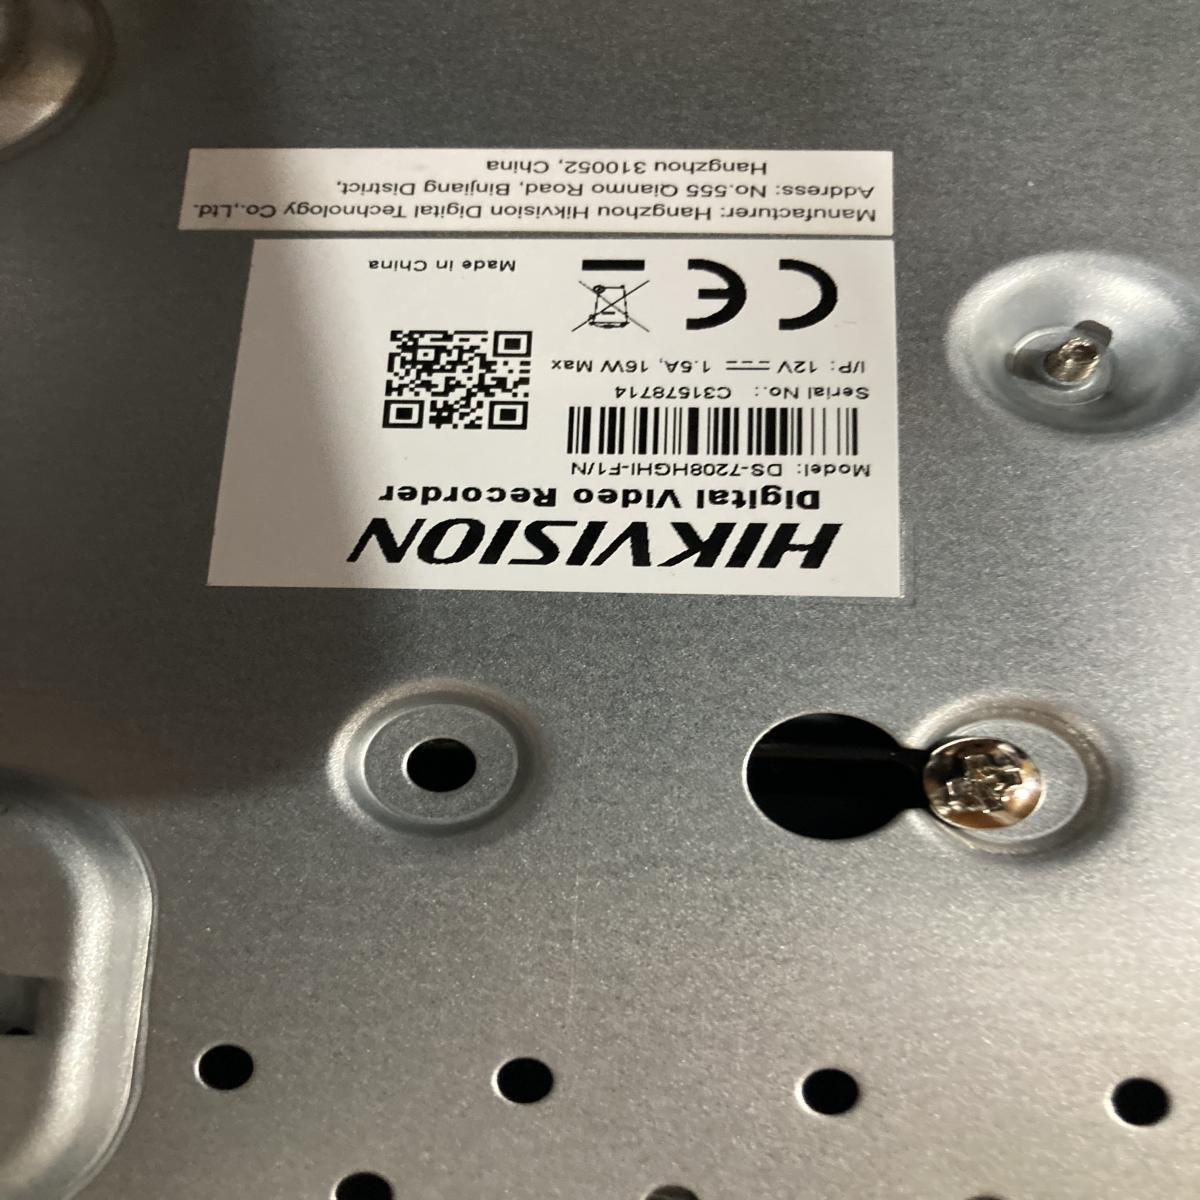Barcode: (552, 395, 873, 460)
Label: (208, 242, 892, 590)
